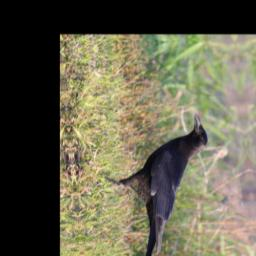Crow: (95, 111, 222, 256)
